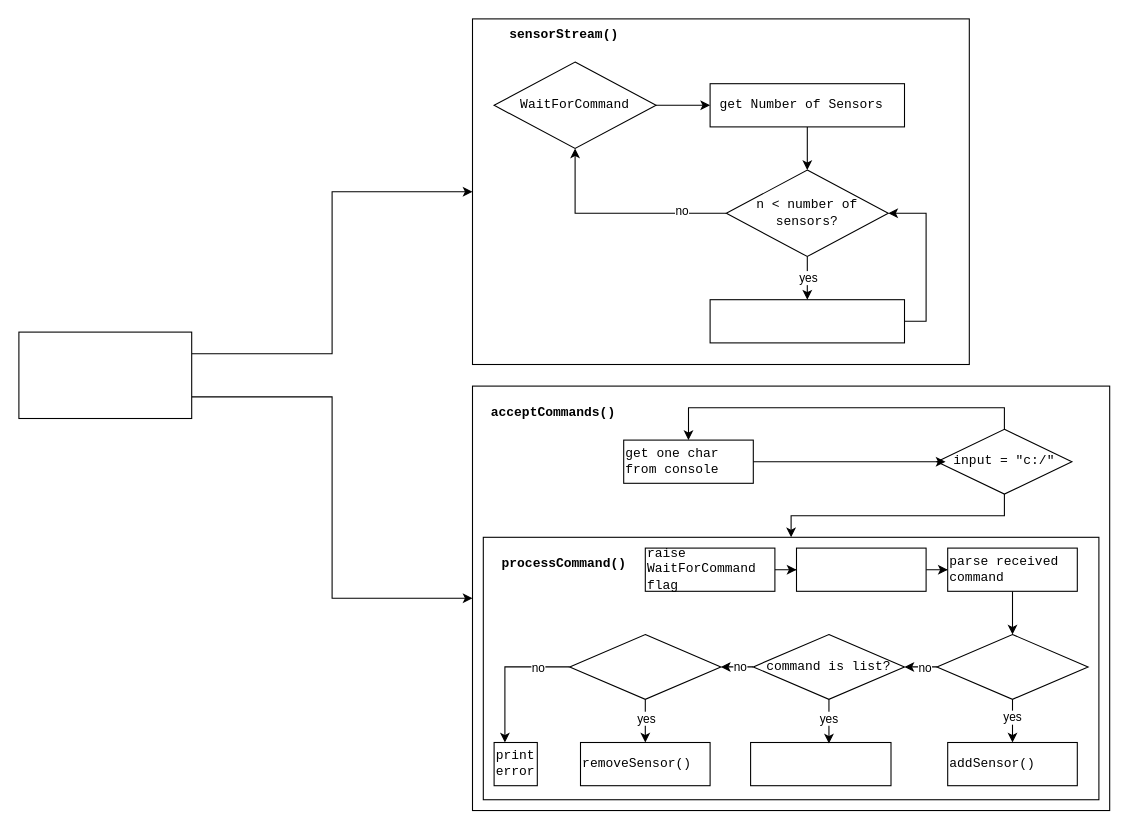
The diagram is 1129 pixels wide and 829 high, and some of its shapes have lost their labels. Each missing label, with the centre of its shape:
call streamData for nth sensor: the point at 807,321
command is add?: the point at 1012,666
command is remove?: the point at 645,666
listSensors(): the point at 820,763
make threads - steramThread - commandThread: the point at 105,374
read a line from console: the point at 860,569
